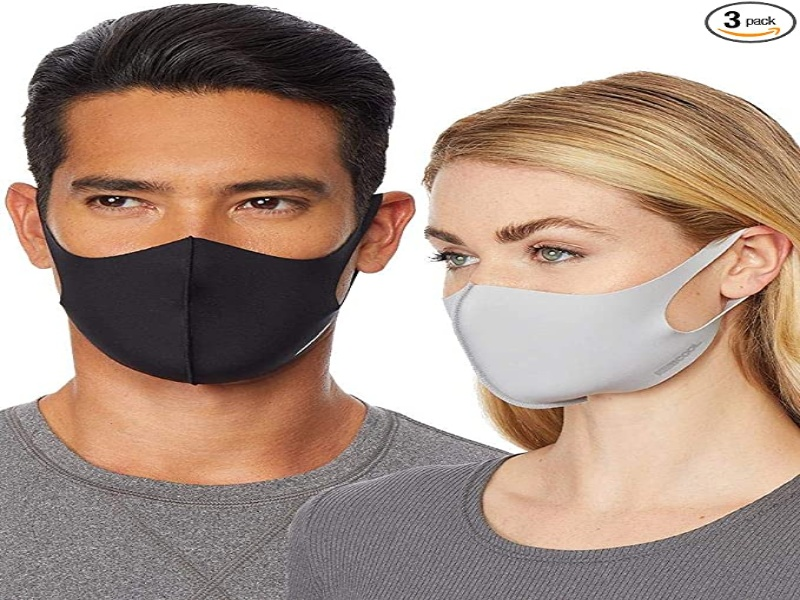mask: (54, 233, 344, 388), (438, 275, 724, 410)
